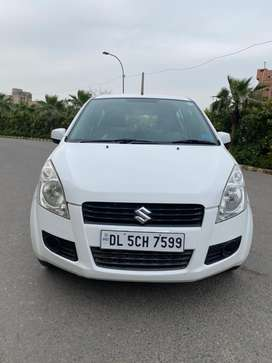DL5CH7599: (101, 229, 185, 251)
